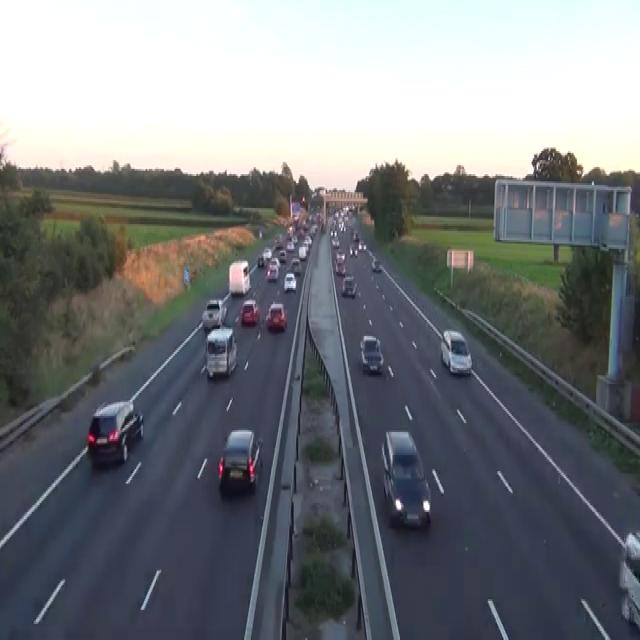Car: (380, 428, 431, 528), (86, 398, 144, 464), (217, 428, 263, 491), (618, 530, 639, 631), (440, 329, 472, 375), (359, 334, 383, 374), (620, 585, 639, 631), (201, 298, 227, 330), (265, 302, 287, 331), (624, 530, 639, 570), (240, 299, 259, 325), (341, 274, 357, 297), (283, 272, 296, 292), (266, 263, 278, 281), (290, 256, 301, 274), (334, 260, 346, 276), (371, 258, 381, 272), (269, 256, 280, 268), (262, 247, 272, 260), (274, 235, 283, 249), (349, 244, 358, 258), (298, 246, 306, 260), (303, 235, 312, 247), (279, 249, 286, 263), (257, 254, 264, 267), (336, 251, 345, 261), (358, 240, 366, 251), (286, 240, 294, 251), (286, 226, 294, 236), (331, 238, 339, 247), (352, 231, 358, 240), (292, 234, 298, 243), (258, 228, 262, 238), (301, 195, 305, 202)
Truck: (205, 325, 237, 379), (228, 260, 250, 295), (291, 201, 300, 220)
